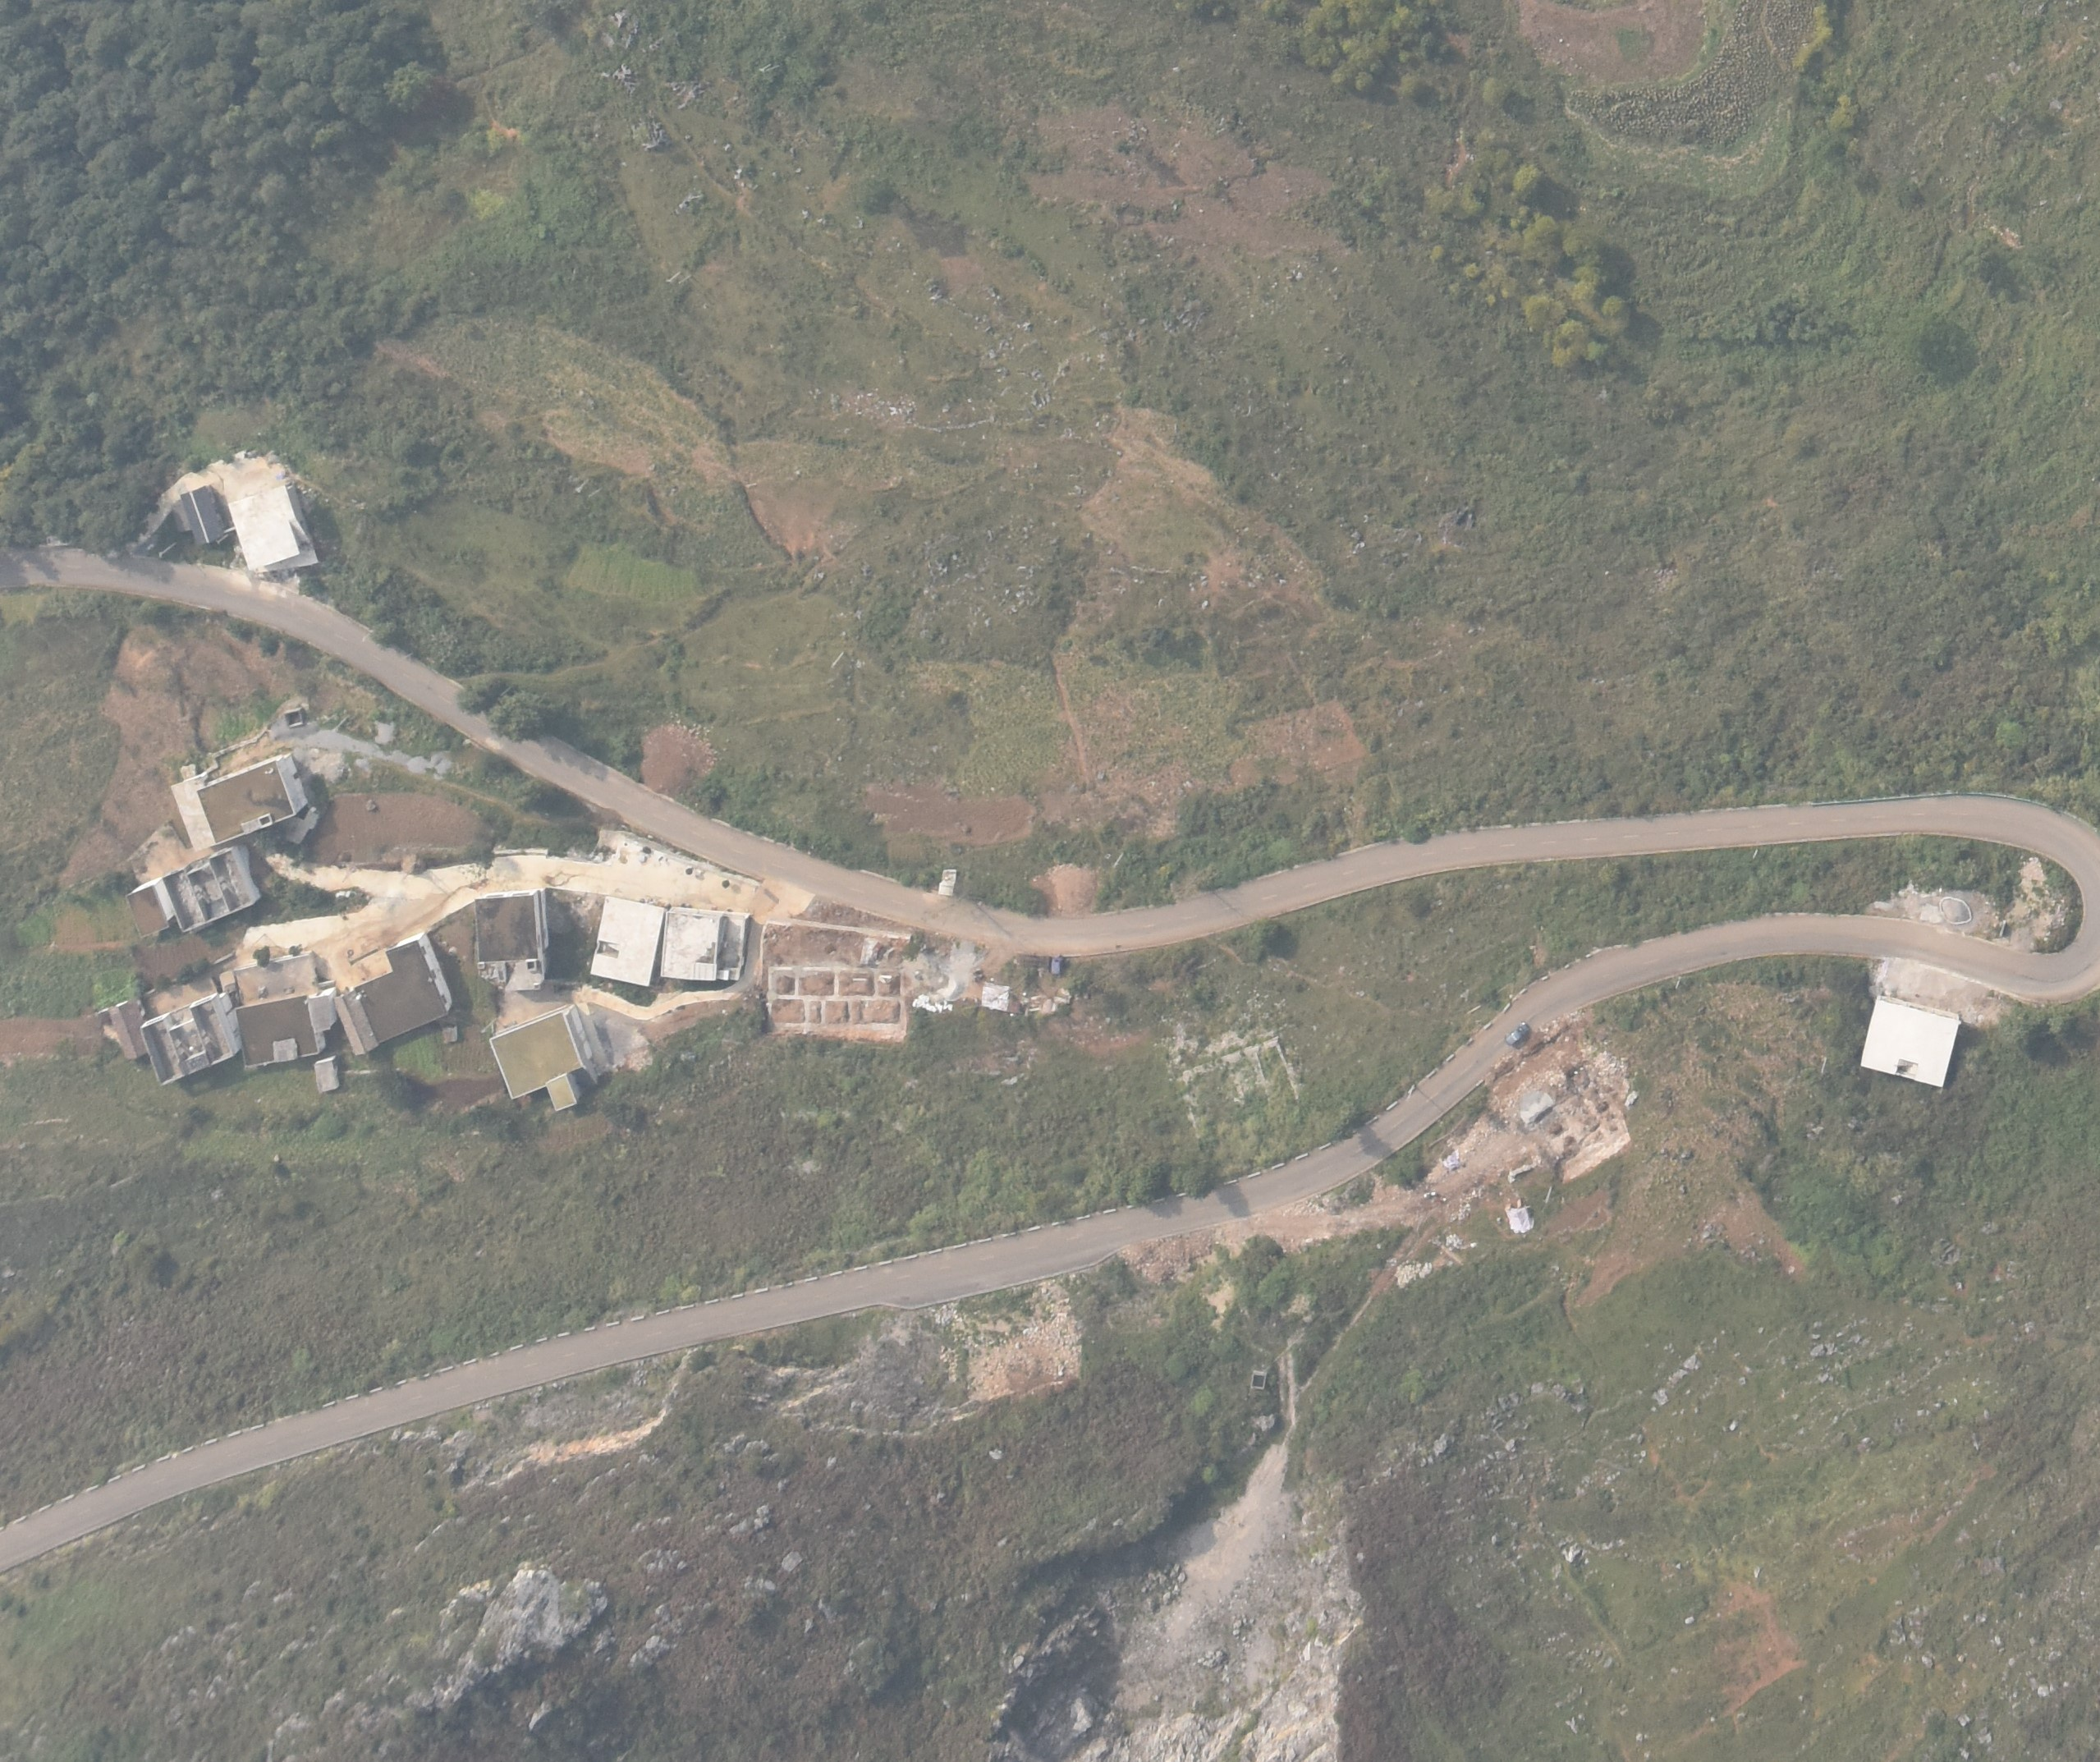building: (169, 753, 309, 853), (124, 851, 259, 939), (353, 935, 452, 1045), (489, 1003, 587, 1112), (140, 996, 239, 1086), (227, 484, 320, 568), (473, 888, 547, 989), (589, 897, 666, 988), (659, 907, 750, 982), (232, 995, 320, 1065), (337, 988, 379, 1056), (108, 998, 152, 1059), (180, 486, 224, 544)
prefabricated-house: (1857, 993, 1962, 1086)
vehicle: (1017, 954, 1060, 975), (1504, 1021, 1529, 1045)
